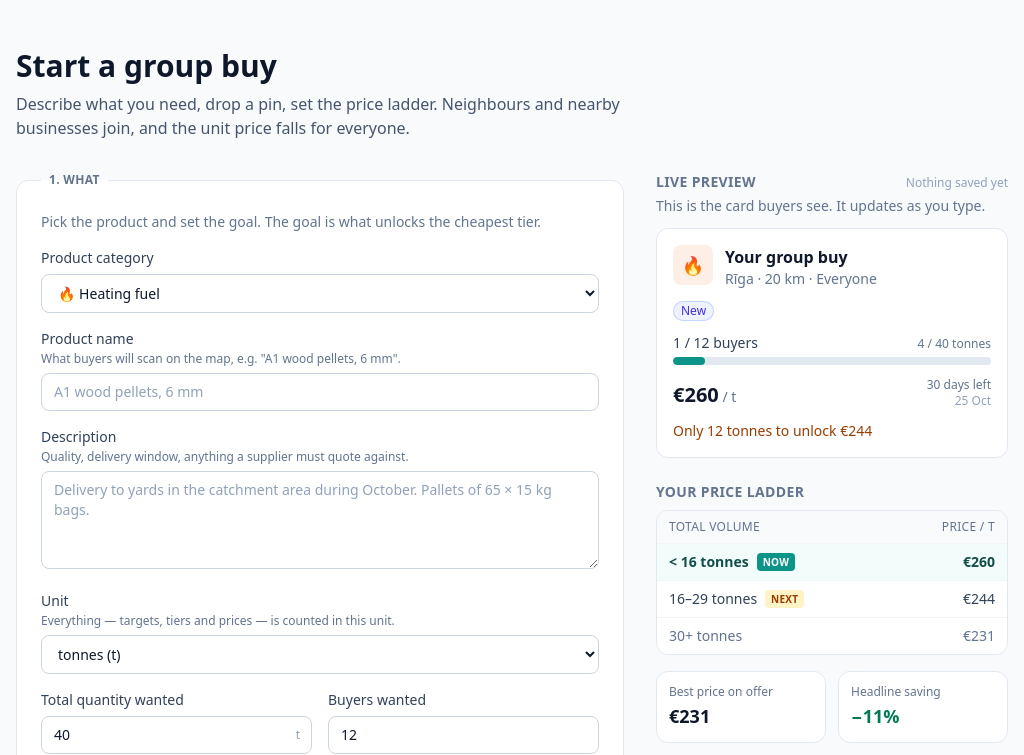
Test case: CreateCampaignPage review › mirrors typing into the preview card
Type "Wood pellets A1" into the field labelled "Product name".
click(320, 392); type("Wood pellets A1")  # box [41,373,599,411]
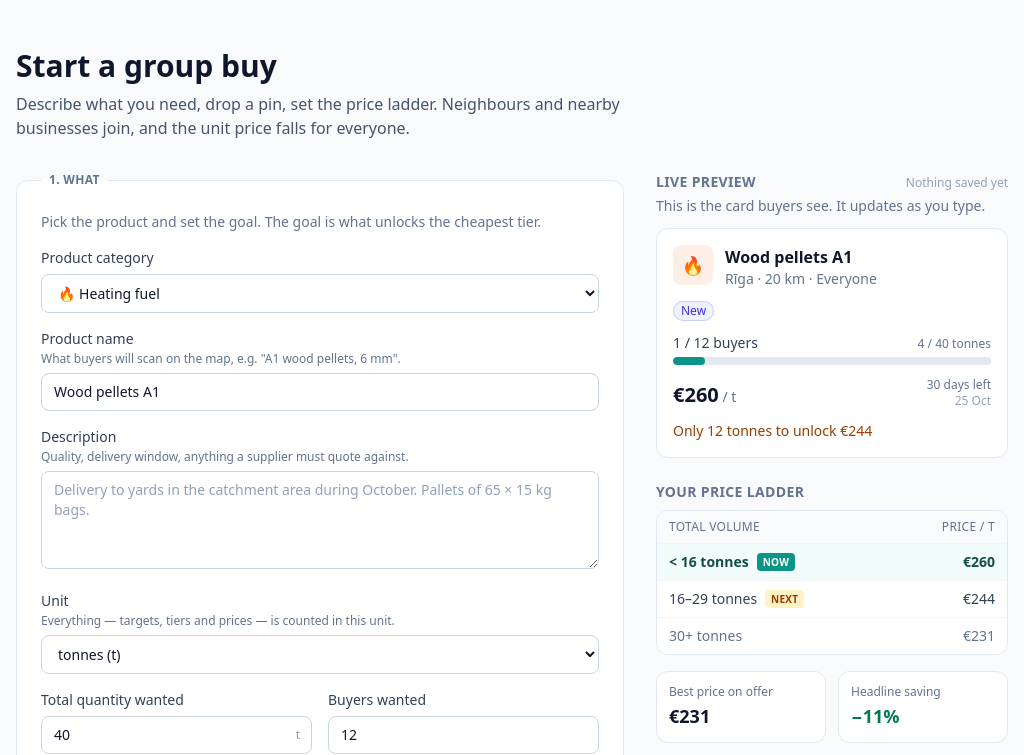
Expected: the heading "Wood pellets A1" is shown, [725,246,852,268]
